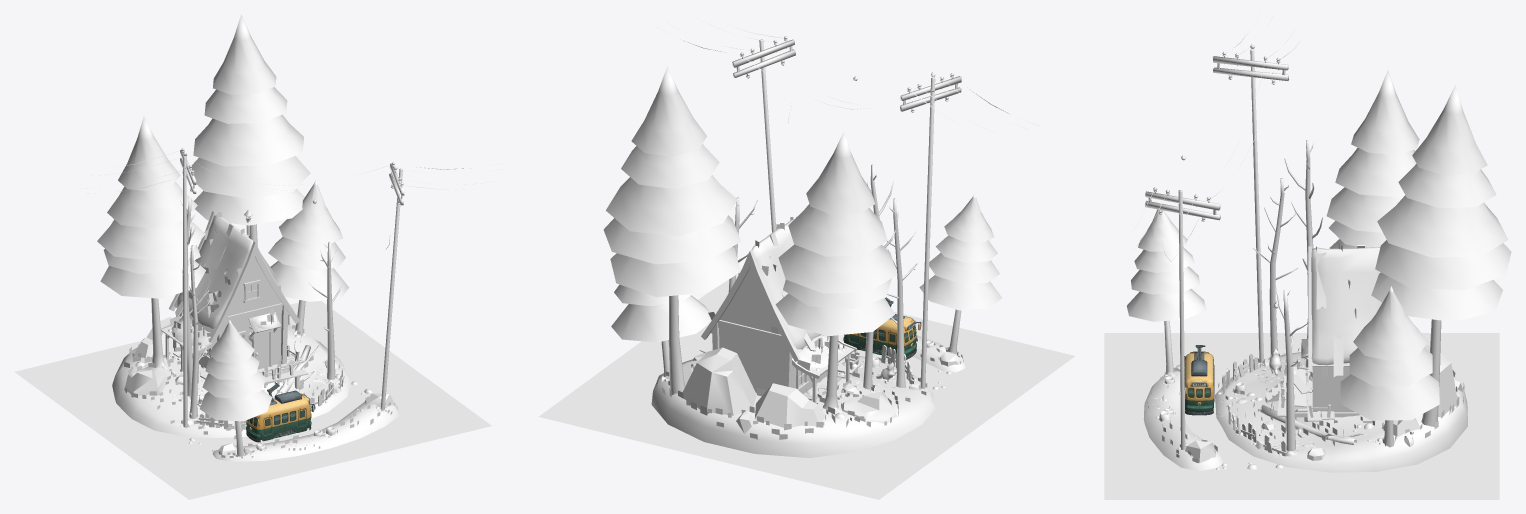
3 views of the same model, side by side, from view 1: azimuth 30°, elevation 25°; view 2: azimuth 150°, elevation 25°; view 3: azimuth 270°, elevation 25° (orthographic). The views are drawn at different scales.
Parts seen in each view (by area): view 1: node_0e9efd8c_97be_4521_b60b_57c0738a4b78_mesh0, node_18b6d1a0_4c6b_4e5e_91a3_0b4866ea335e_mesh0, node_09b83310_7c18_4196_b206_6b5e62dc0964_mesh0, node_da94d614_bd16_4007_aaa8_c74e87cda3d4_mesh0, node_6b2c5457_4dbb_414a_9cbf_e2bea20ee07b_mesh0, node_a628aa63_c351_4860_9999_6f01349aec54_mesh0, node_538bc26a_b513_4d43_826b_42763aa9aee2_mesh0, node_da6e07d2_f5c0_444c_a101_9376d09f4280_mesh0, node_6b645c29_018d_4c19_8e86_66908ba14556_mesh0, train, node_08c8525e_aeb7_4bff_8b16_f7f2befb8901_mesh0, node_35a70123_940d_44e3_8b8d_8be0d74d8300_mesh0; view 2: node_0e9efd8c_97be_4521_b60b_57c0738a4b78_mesh0, node_18b6d1a0_4c6b_4e5e_91a3_0b4866ea335e_mesh0, node_09b83310_7c18_4196_b206_6b5e62dc0964_mesh0, node_6b645c29_018d_4c19_8e86_66908ba14556_mesh0, node_a628aa63_c351_4860_9999_6f01349aec54_mesh0, node_6b2c5457_4dbb_414a_9cbf_e2bea20ee07b_mesh0, node_538bc26a_b513_4d43_826b_42763aa9aee2_mesh0, node_da94d614_bd16_4007_aaa8_c74e87cda3d4_mesh0, node_da6e07d2_f5c0_444c_a101_9376d09f4280_mesh0, train; view 3: node_0e9efd8c_97be_4521_b60b_57c0738a4b78_mesh0, node_18b6d1a0_4c6b_4e5e_91a3_0b4866ea335e_mesh0, node_09b83310_7c18_4196_b206_6b5e62dc0964_mesh0, node_da94d614_bd16_4007_aaa8_c74e87cda3d4_mesh0, node_538bc26a_b513_4d43_826b_42763aa9aee2_mesh0, node_6b2c5457_4dbb_414a_9cbf_e2bea20ee07b_mesh0, node_6b645c29_018d_4c19_8e86_66908ba14556_mesh0, node_da6e07d2_f5c0_444c_a101_9376d09f4280_mesh0, node_08c8525e_aeb7_4bff_8b16_f7f2befb8901_mesh0, train, node_a628aa63_c351_4860_9999_6f01349aec54_mesh0.
Boxes of the visible parts, <box> form: node_0e9efd8c_97be_4521_b60b_57c0738a4b78_mesh0: <box>97,14,349,421</box>; node_18b6d1a0_4c6b_4e5e_91a3_0b4866ea335e_mesh0: <box>14,301,491,499</box>; node_09b83310_7c18_4196_b206_6b5e62dc0964_mesh0: <box>112,325,399,461</box>; node_da94d614_bd16_4007_aaa8_c74e87cda3d4_mesh0: <box>161,209,293,355</box>; node_6b2c5457_4dbb_414a_9cbf_e2bea20ee07b_mesh0: <box>144,197,342,456</box>; node_a628aa63_c351_4860_9999_6f01349aec54_mesh0: <box>169,211,299,369</box>; node_538bc26a_b513_4d43_826b_42763aa9aee2_mesh0: <box>180,148,404,450</box>; node_da6e07d2_f5c0_444c_a101_9376d09f4280_mesh0: <box>81,150,504,458</box>; node_6b645c29_018d_4c19_8e86_66908ba14556_mesh0: <box>124,317,394,455</box>; train: <box>246,382,314,442</box>; node_08c8525e_aeb7_4bff_8b16_f7f2befb8901_mesh0: <box>173,332,308,388</box>; node_35a70123_940d_44e3_8b8d_8be0d74d8300_mesh0: <box>165,279,260,382</box>; node_0e9efd8c_97be_4521_b60b_57c0738a4b78_mesh0: <box>603,66,1001,342</box>; node_18b6d1a0_4c6b_4e5e_91a3_0b4866ea335e_mesh0: <box>538,274,1074,499</box>; node_09b83310_7c18_4196_b206_6b5e62dc0964_mesh0: <box>651,334,965,457</box>; node_6b645c29_018d_4c19_8e86_66908ba14556_mesh0: <box>657,346,961,433</box>; node_a628aa63_c351_4860_9999_6f01349aec54_mesh0: <box>701,215,827,393</box>; node_6b2c5457_4dbb_414a_9cbf_e2bea20ee07b_mesh0: <box>661,164,961,413</box>; node_538bc26a_b513_4d43_826b_42763aa9aee2_mesh0: <box>732,36,961,388</box>; node_da94d614_bd16_4007_aaa8_c74e87cda3d4_mesh0: <box>732,219,856,378</box>; node_da6e07d2_f5c0_444c_a101_9376d09f4280_mesh0: <box>655,17,1039,439</box>; train: <box>843,297,921,359</box>; node_0e9efd8c_97be_4521_b60b_57c0738a4b78_mesh0: <box>1127,69,1511,420</box>; node_18b6d1a0_4c6b_4e5e_91a3_0b4866ea335e_mesh0: <box>1104,333,1499,499</box>; node_09b83310_7c18_4196_b206_6b5e62dc0964_mesh0: <box>1143,352,1467,472</box>; node_da94d614_bd16_4007_aaa8_c74e87cda3d4_mesh0: <box>1301,245,1381,377</box>; node_538bc26a_b513_4d43_826b_42763aa9aee2_mesh0: <box>1145,49,1289,456</box>; node_6b2c5457_4dbb_414a_9cbf_e2bea20ee07b_mesh0: <box>1164,140,1441,451</box>; node_6b645c29_018d_4c19_8e86_66908ba14556_mesh0: <box>1156,345,1462,469</box>; node_da6e07d2_f5c0_444c_a101_9376d09f4280_mesh0: <box>1130,14,1464,462</box>; node_08c8525e_aeb7_4bff_8b16_f7f2befb8901_mesh0: <box>1266,359,1375,431</box>; train: <box>1184,345,1214,415</box>; node_a628aa63_c351_4860_9999_6f01349aec54_mesh0: <box>1308,246,1354,412</box>.
Bounding box in the file's own units: 6.44 × 5.24 × 5.28.
Materials: 16 (3 with a texture image).
